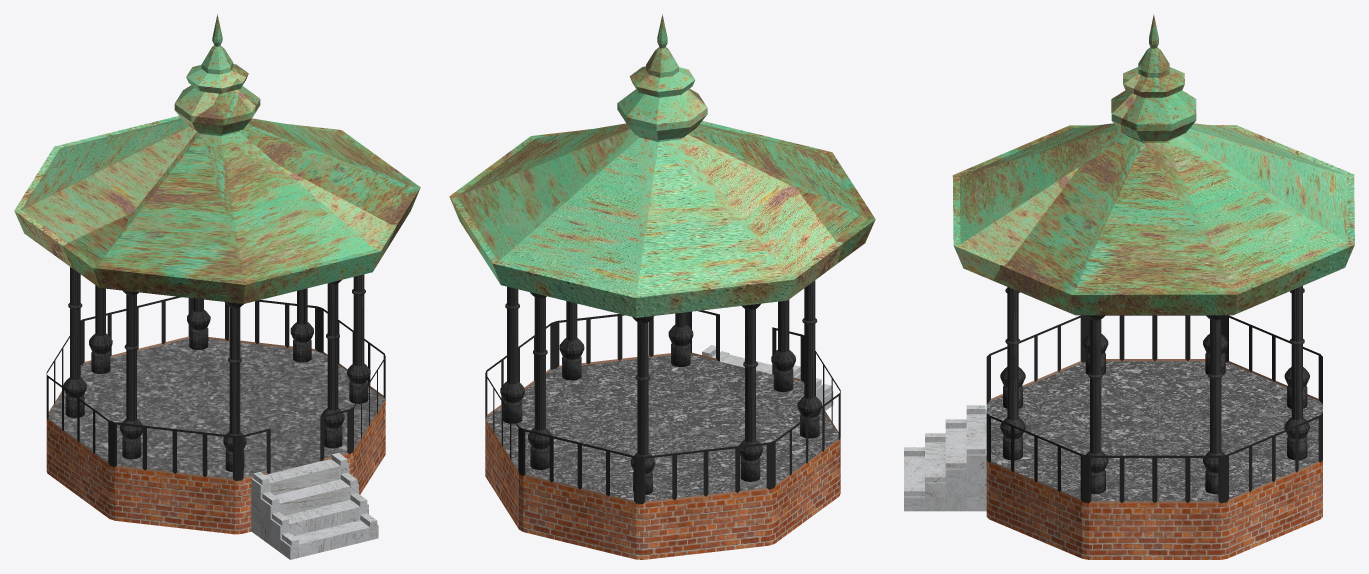
File: Amphitheatre.fbx
The picture shows the model from 3 angles, left to right: view 1: azimuth 30°, elevation 25°; view 2: azimuth 150°, elevation 25°; view 3: azimuth 270°, elevation 25°; orthographic projection. The views are drawn at different scales.
Parts seen in each view (by area): view 1: Amphitheatre_LOD0; view 2: Amphitheatre_LOD0; view 3: Amphitheatre_LOD0.
Part boxes in pixels (x1,y1,x2,y2): Amphitheatre_LOD0: [14, 14, 420, 559]; Amphitheatre_LOD0: [449, 14, 875, 559]; Amphitheatre_LOD0: [904, 14, 1354, 559].
Size of what is drawn, in the model's own units: 3237 by 4223 by 3630.
